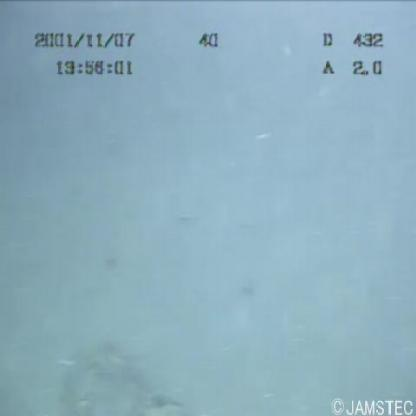Rác: (46, 321, 195, 416)
